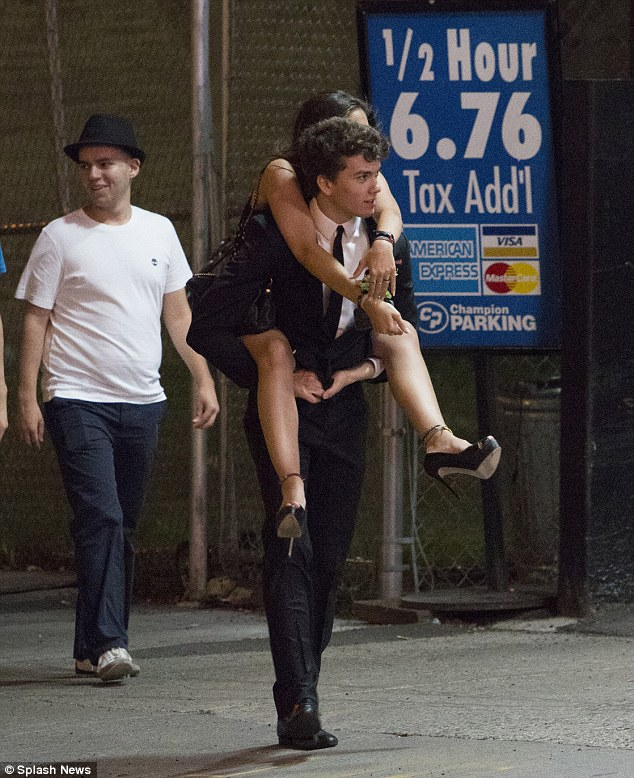Person: (188, 84, 512, 565), (11, 112, 224, 698), (240, 117, 402, 753)
